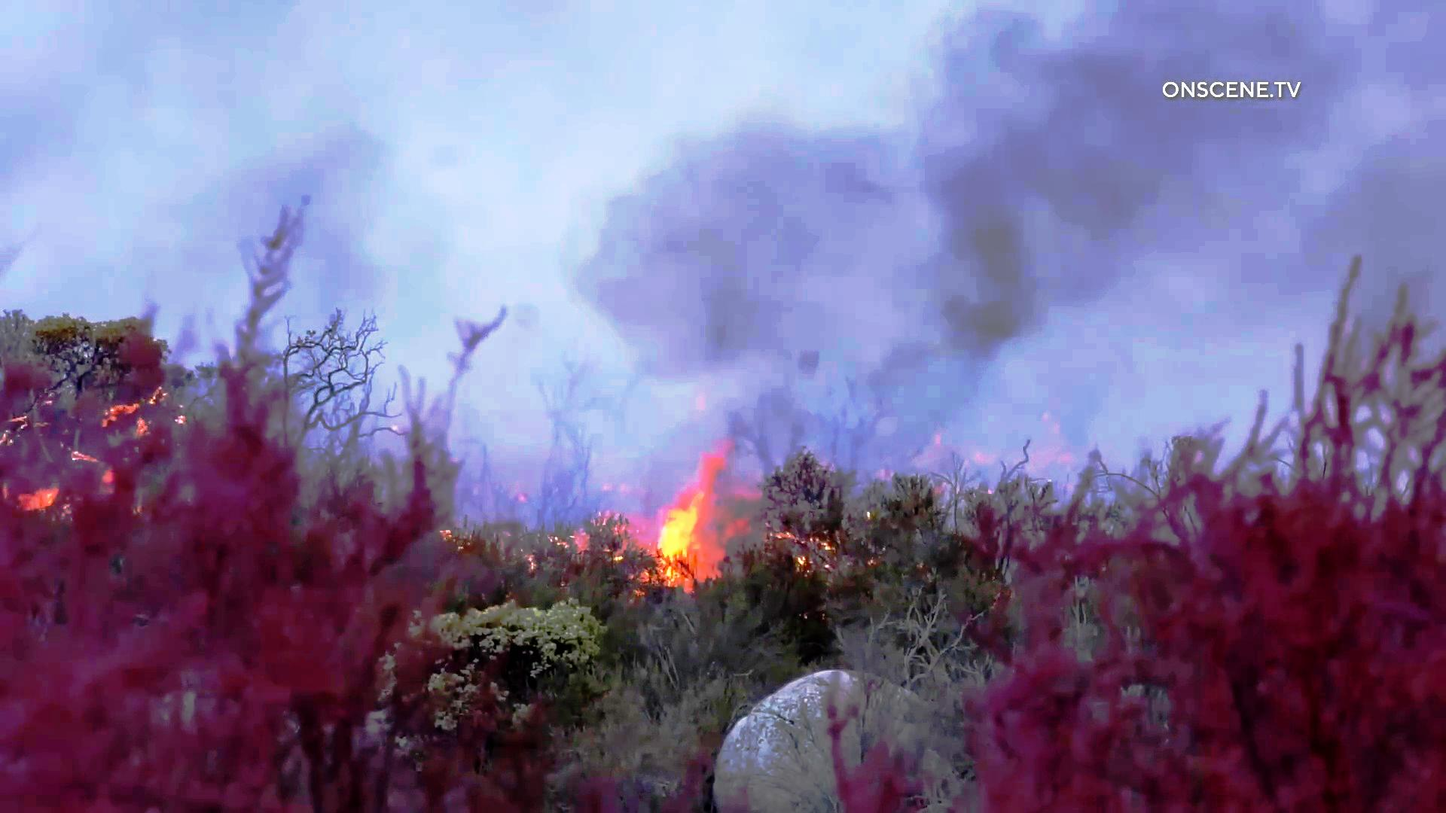fire: (645, 454, 731, 592)
